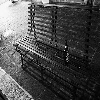beer: (63, 42, 70, 64)
